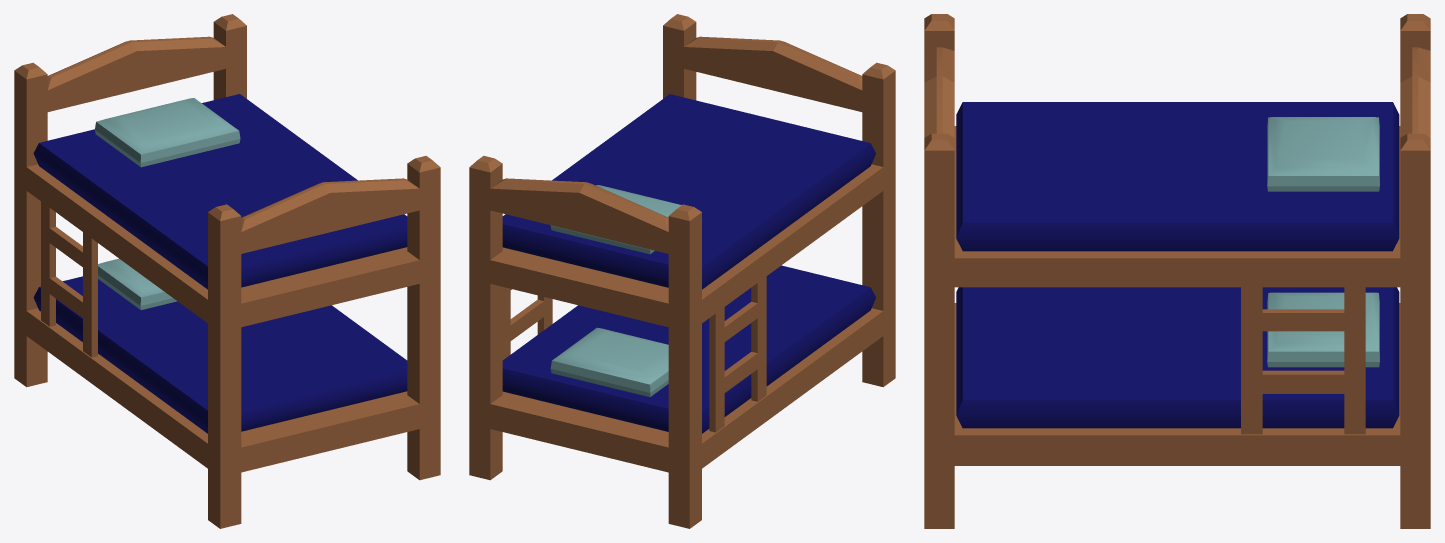
The model's file is beliche.FBX.
3 views of the same model, side by side, from view 1: azimuth 30°, elevation 25°; view 2: azimuth 150°, elevation 25°; view 3: azimuth 270°, elevation 25° (orthographic). The views are drawn at different scales.
Parts seen in each view (by area): view 1: Box006; view 2: Box006; view 3: Box006.
Boxes of the visible parts, <box> form: Box006: <box>14,14,440,528</box>; Box006: <box>469,14,895,528</box>; Box006: <box>924,14,1430,528</box>.
Size of the model in its own units: 75.37 by 103 by 122.
